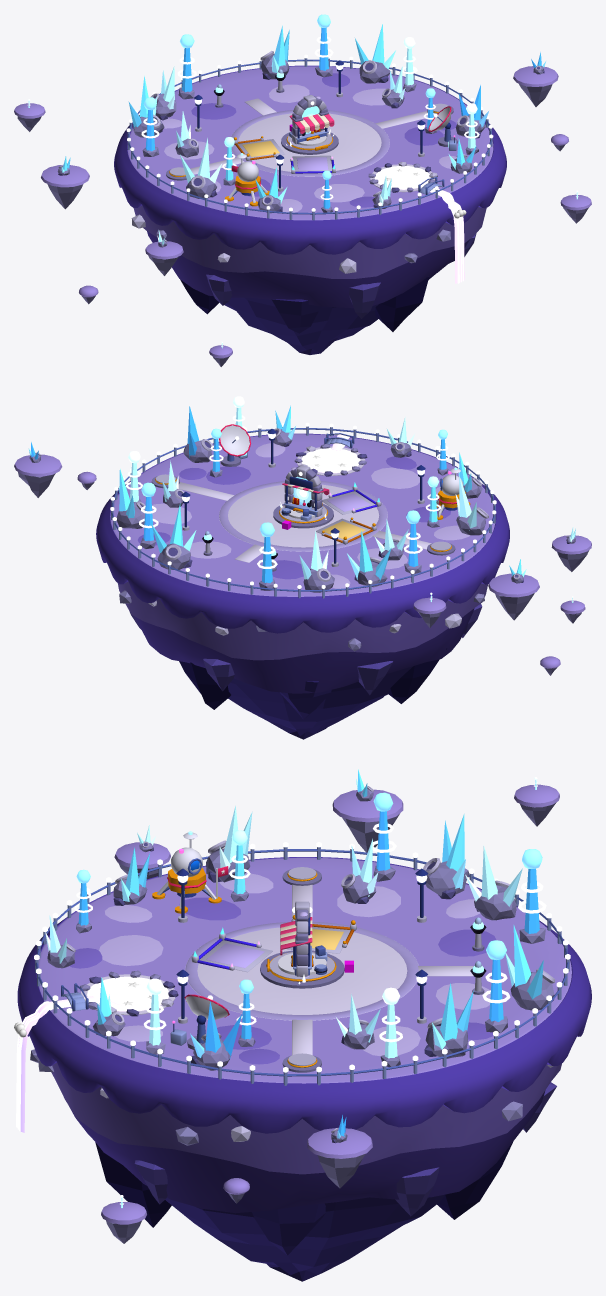
The model's file is moon_island.fbx.
3 views of the same model, one above another, from view 1: azimuth 30°, elevation 25°; view 2: azimuth 150°, elevation 25°; view 3: azimuth 270°, elevation 25° (orthographic). The views are drawn at different scales.
Parts seen in each view (by area): view 1: Moon_Island, Moon_Glow, Moon_Paths, Moon_Dressing, Moon_FloatingRocks, Moon_Trees, Moon_BossPlinth, Moon_Stall, Moon_Portal; view 2: Moon_Island, Moon_Glow, Moon_Paths, Moon_Dressing, Moon_FloatingRocks, Moon_Trees, Moon_Portal, Moon_Stall, Moon_BossPlinth; view 3: Moon_Island, Moon_Glow, Moon_Paths, Moon_Dressing, Moon_Trees, Moon_FloatingRocks, Moon_BossPlinth, Moon_Stall, Moon_Portal.
Boxes of the visible parts, x1,y1,x2,y2 form: Moon_Island: (114, 65, 506, 354); Moon_Glow: (27, 14, 578, 348); Moon_Paths: (166, 98, 453, 180); Moon_Dressing: (127, 58, 492, 220); Moon_FloatingRocks: (14, 65, 591, 366); Moon_Trees: (133, 51, 485, 213); Moon_BossPlinth: (281, 131, 338, 154); Moon_Stall: (289, 114, 334, 144); Moon_Portal: (286, 95, 334, 146); Moon_Island: (96, 433, 509, 739); Moon_Glow: (28, 396, 575, 602); Moon_Paths: (151, 474, 455, 562); Moon_Dressing: (111, 424, 495, 598); Moon_FloatingRocks: (14, 452, 591, 675); Moon_Trees: (116, 428, 488, 592); Moon_Portal: (279, 465, 326, 519); Moon_Stall: (281, 476, 329, 521); Moon_BossPlinth: (273, 503, 333, 528); Moon_Island: (17, 857, 591, 1281); Moon_Glow: (14, 769, 570, 1207); Moon_Paths: (185, 867, 473, 1072); Moon_Dressing: (35, 832, 569, 1085); Moon_Trees: (47, 840, 554, 1070); Moon_FloatingRocks: (101, 784, 559, 1243); Moon_BossPlinth: (260, 950, 344, 988); Moon_Stall: (280, 913, 327, 975); Moon_Portal: (292, 901, 312, 984).
Bounding box in the file's own units: 181 × 94.32 × 123.
